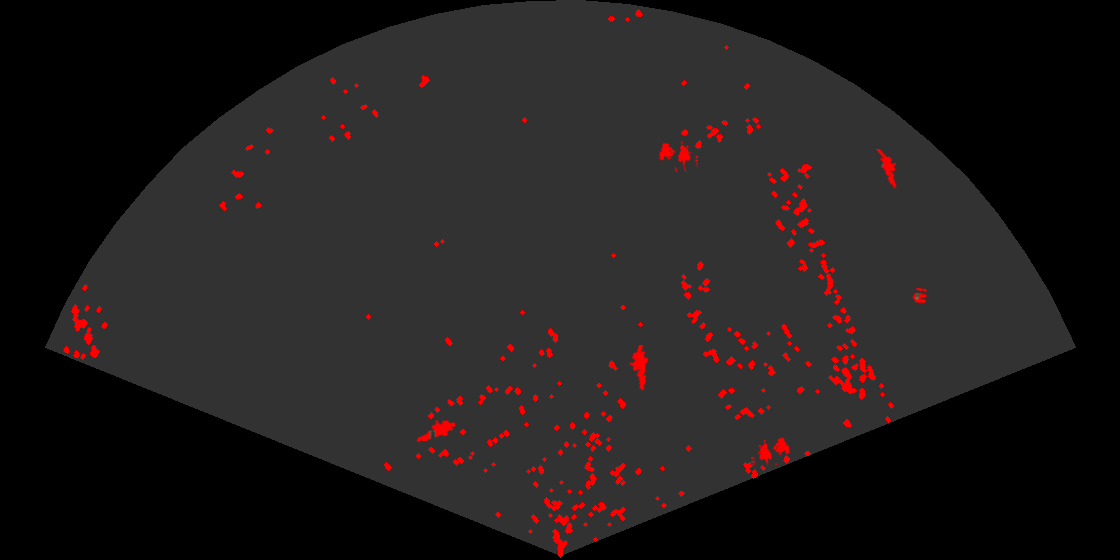ball: (911, 286, 929, 305)
cage: (658, 140, 698, 172), (751, 436, 792, 465)
frogman: (627, 345, 650, 391), (415, 418, 455, 444), (874, 149, 898, 189)
